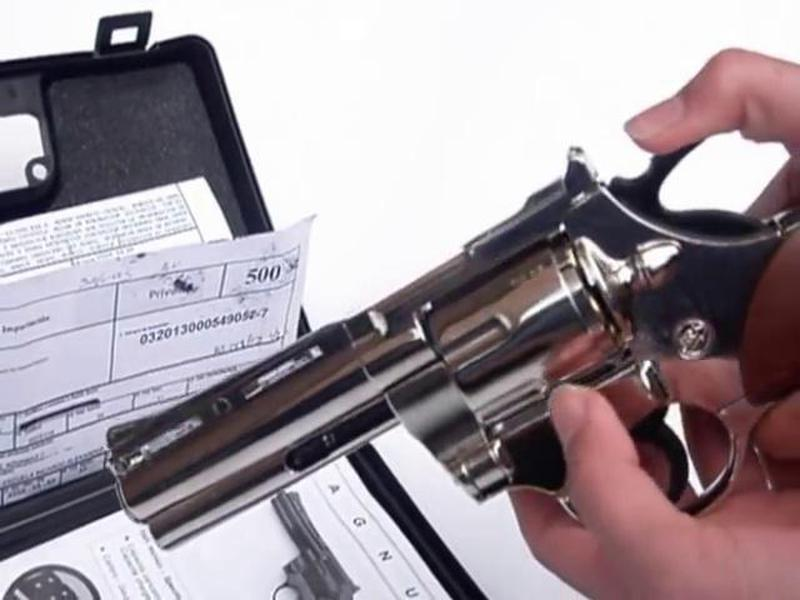Revolver: (106, 114, 800, 511)
